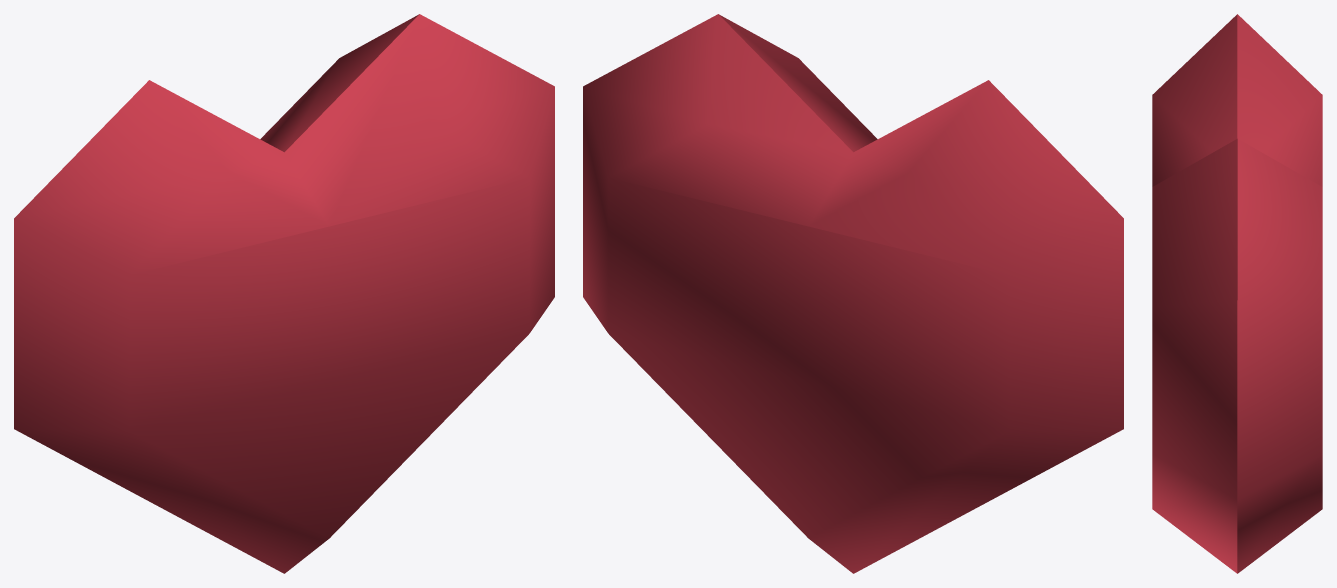
Rendered from heart.glb.
The picture shows the model from 3 angles, left to right: view 1: azimuth 30°, elevation 25°; view 2: azimuth 150°, elevation 25°; view 3: azimuth 270°, elevation 25°; orthographic projection. The views are drawn at different scales.
Visible parts, largest first — view 1: heart; view 2: heart; view 3: heart.
Part boxes in pixels (x1,y1,x2,y2): heart: (14,14,554,573); heart: (583,14,1123,573); heart: (1152,14,1322,573).
Bounding box in the file's own units: 0.4122 × 0.3839 × 0.119.
